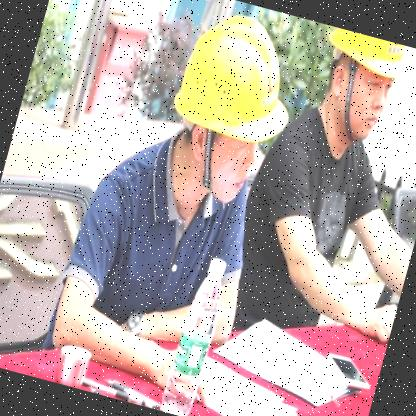capacete: (150, 2, 312, 216), (303, 26, 415, 153)
sem_colete_refletivo: (47, 108, 276, 361), (230, 98, 392, 345)
